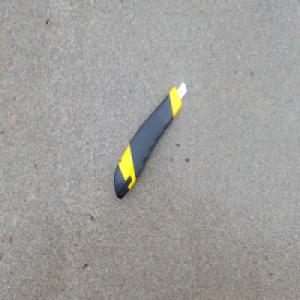Cutter: (111, 77, 189, 202)
